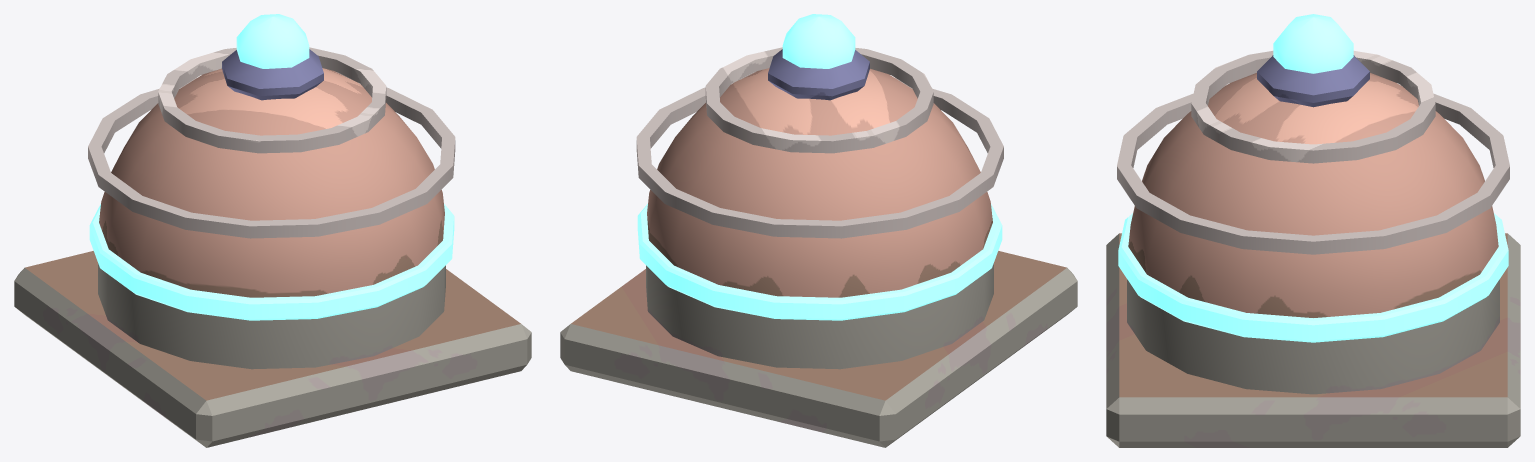
File: R4X_PersonalShield_LOD1.glb
3 renders of one model, left to right at view 1: azimuth 30°, elevation 25°; view 2: azimuth 150°, elevation 25°; view 3: azimuth 270°, elevation 25°, orthographic. The views are drawn at different scales.
Visible parts, largest first — view 1: R4X_PersonalShield_LOD1; view 2: R4X_PersonalShield_LOD1; view 3: R4X_PersonalShield_LOD1.
Part boxes in pixels (box(x1,y1,x2,y2)): R4X_PersonalShield_LOD1: box(14, 14, 531, 447); R4X_PersonalShield_LOD1: box(560, 14, 1077, 447); R4X_PersonalShield_LOD1: box(1106, 14, 1520, 447).
Bounding box in the file's own units: 0.52 × 0.4831 × 0.52.
Materials: 4 (3 with a texture image).
